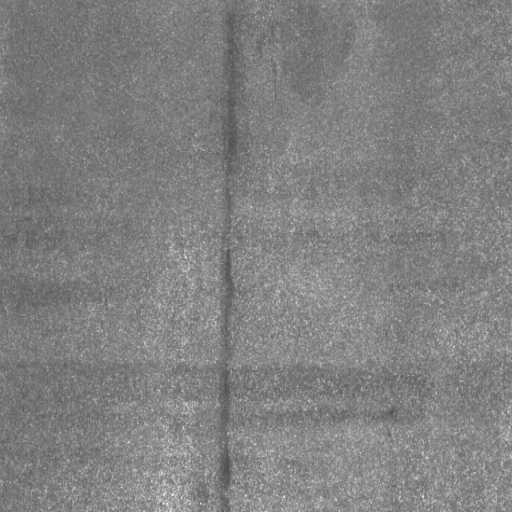zongxianghuashang: (218, 10, 234, 512)
